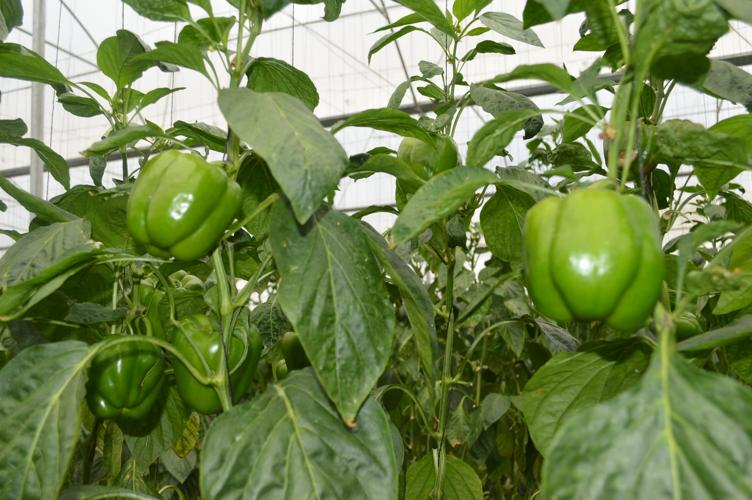BellPepper: (523, 188, 663, 335), (129, 149, 239, 254), (163, 317, 259, 413), (84, 338, 165, 422), (401, 129, 454, 168)
